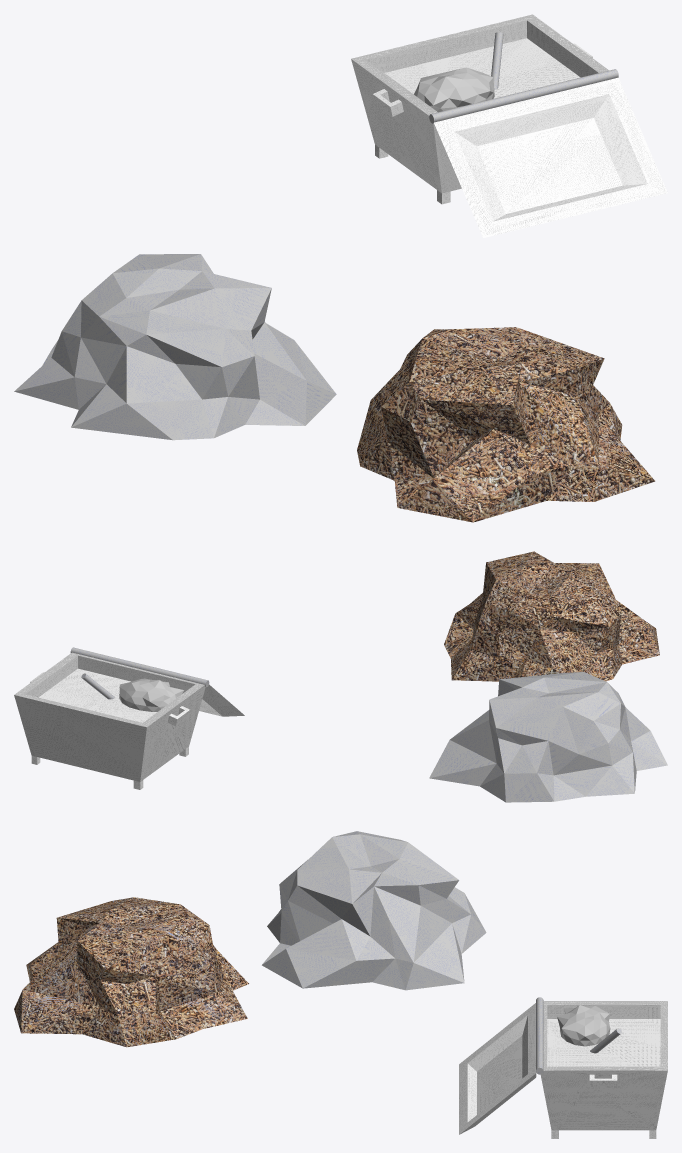
3 views of the same model, one above another, from view 1: azimuth 30°, elevation 25°; view 2: azimuth 150°, elevation 25°; view 3: azimuth 270°, elevation 25° (orthographic). The views are drawn at different scales.
Visible parts, largest first — view 1: SketchUp (×9), GeodesicDome02; view 2: SketchUp (×8), GeodesicDome02; view 3: SketchUp (×8), GeodesicDome02.
Part boxes in pixels (x1,y1,x2,y2): SketchUp (×9): [14, 14, 667, 522]; GeodesicDome02: [414, 67, 494, 112]; SketchUp (×8): [14, 551, 667, 802]; GeodesicDome02: [119, 678, 183, 711]; SketchUp (×8): [14, 831, 667, 1134]; GeodesicDome02: [557, 1005, 610, 1046].
Size of what is drawn, in the model's own units: 480 by 500 by 83.78.
